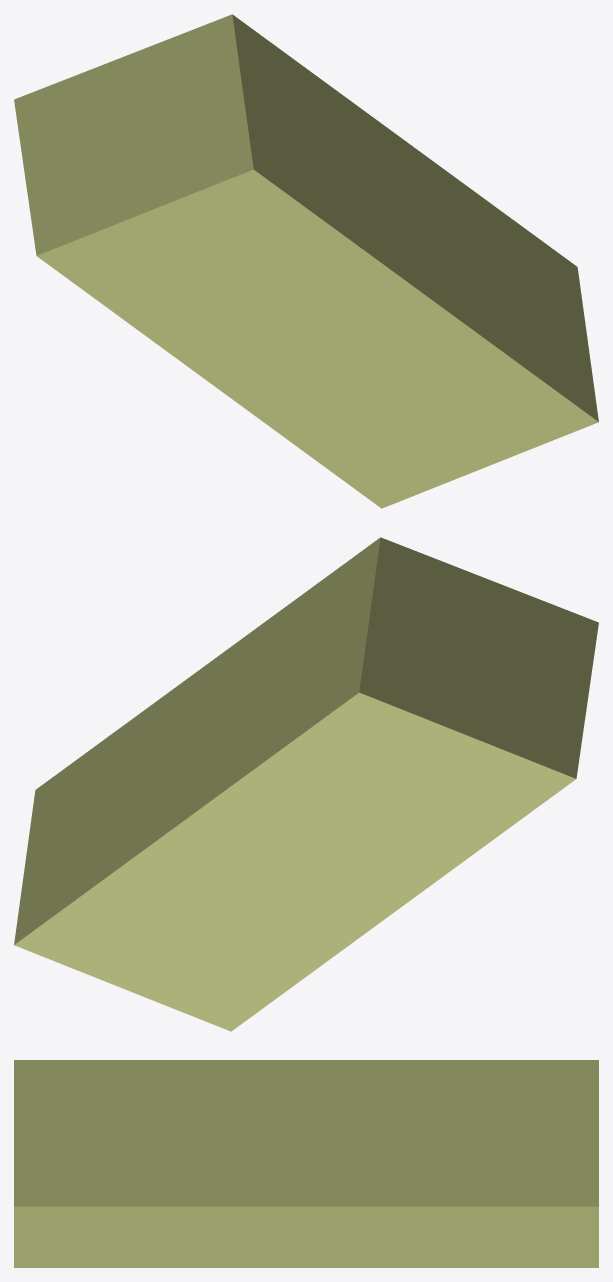
The picture shows the model from 3 angles, top to bottom: view 1: azimuth 30°, elevation 25°; view 2: azimuth 150°, elevation 25°; view 3: azimuth 270°, elevation 25°; orthographic projection. The views are drawn at different scales.
Visible parts, largest first — view 1: 0_1_3_2_1_1_0_2_2_2_2_0; view 2: 0_1_3_2_1_1_0_2_2_2_2_0; view 3: 0_1_3_2_1_1_0_2_2_2_2_0.
Boxes of the visible parts, x1,y1,x2,y2 form: 0_1_3_2_1_1_0_2_2_2_2_0: (14,14,598,508); 0_1_3_2_1_1_0_2_2_2_2_0: (14,537,598,1031); 0_1_3_2_1_1_0_2_2_2_2_0: (14,1060,598,1267).
Size of the model in its own units: 3.61 by 2.79 by 9.
